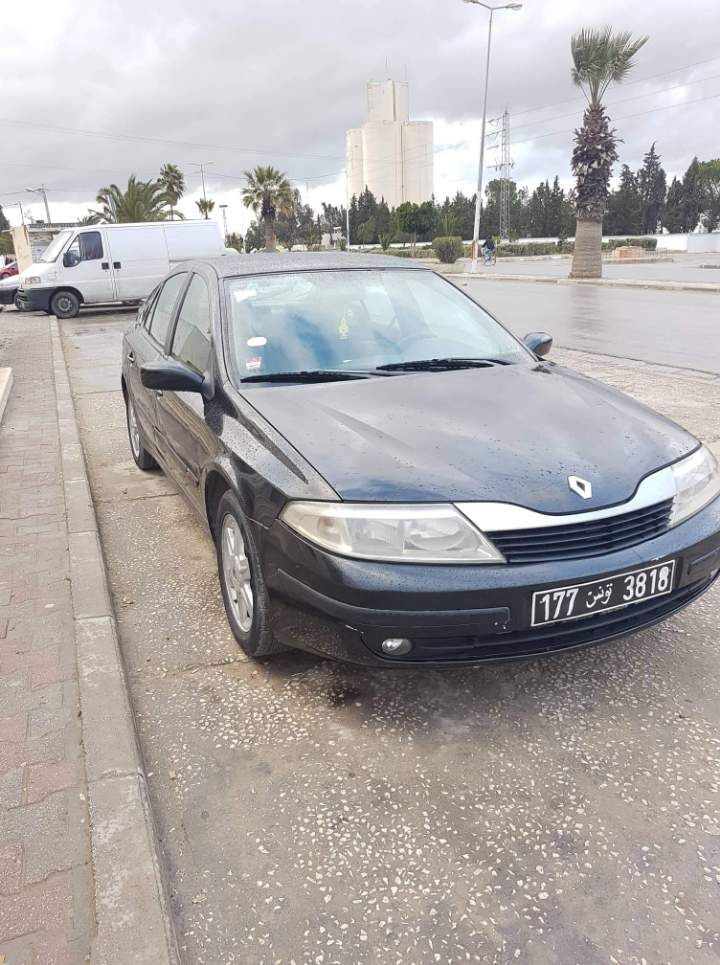LP: (529, 559, 675, 627)
